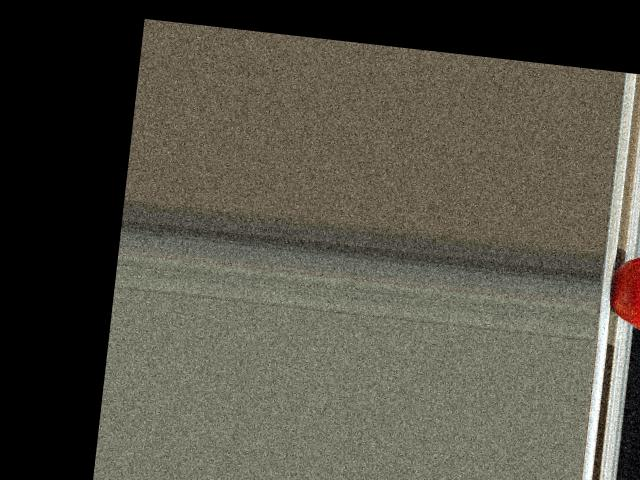tomato: (609, 254, 640, 334)
